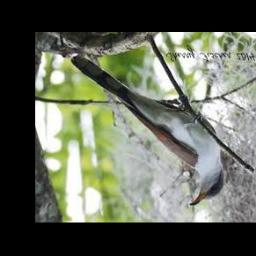Cuckoo: (70, 56, 223, 206)
